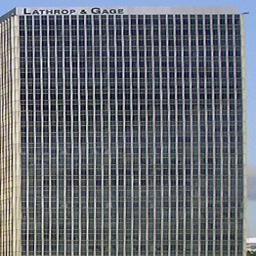building: (12, 0, 248, 256)
